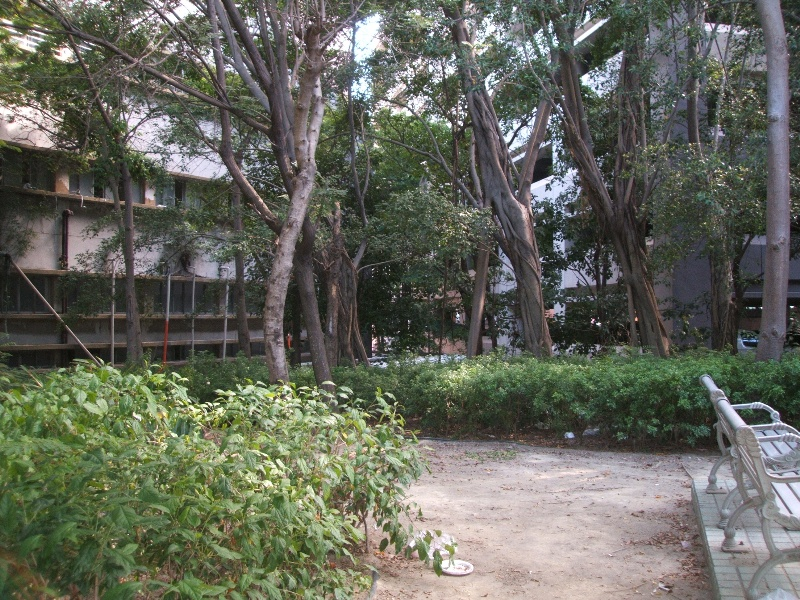plate: (440, 557, 474, 578)
